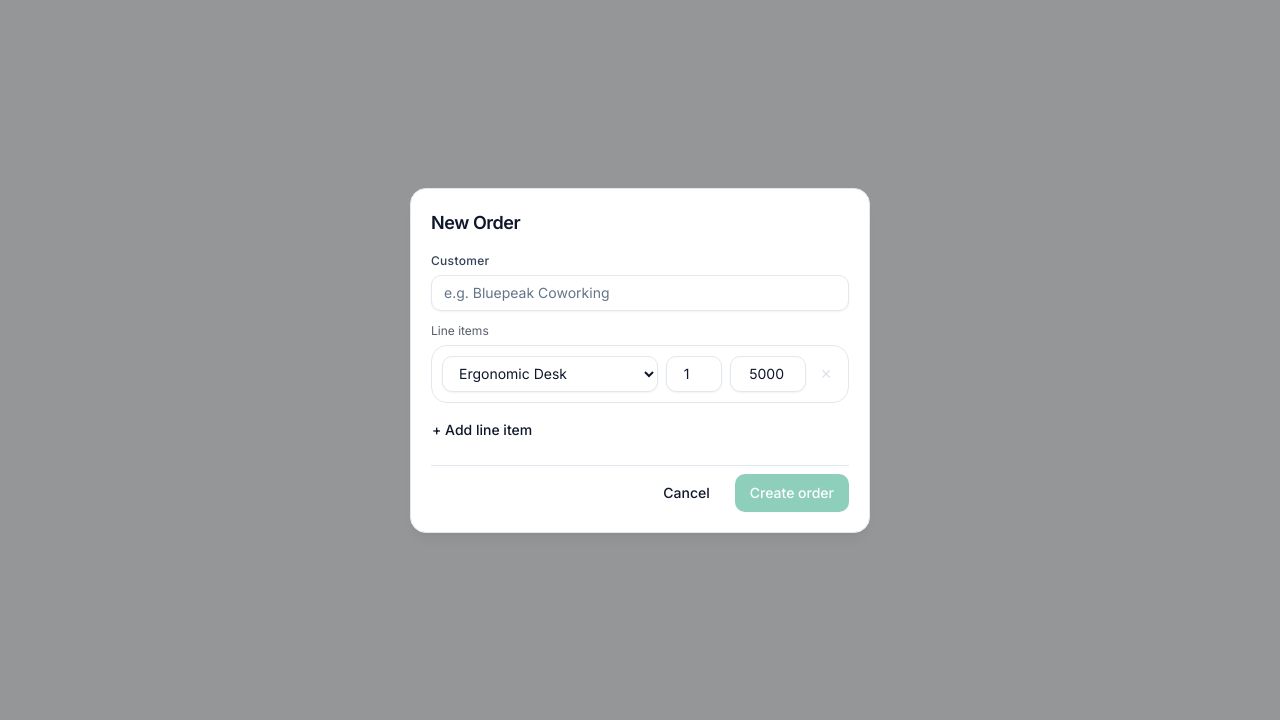
Test case: NewOrderDialog Component › TC-3.2: disables Create Order button when customer is empty
Expected: the button "Create order" is disabled, [735,474,849,512]
# Fill customer name
Type "Wayne Enterprises" into the field with placeholder "e.g. Bluepeak Coworking" at (640, 292), box [431,274,849,310]
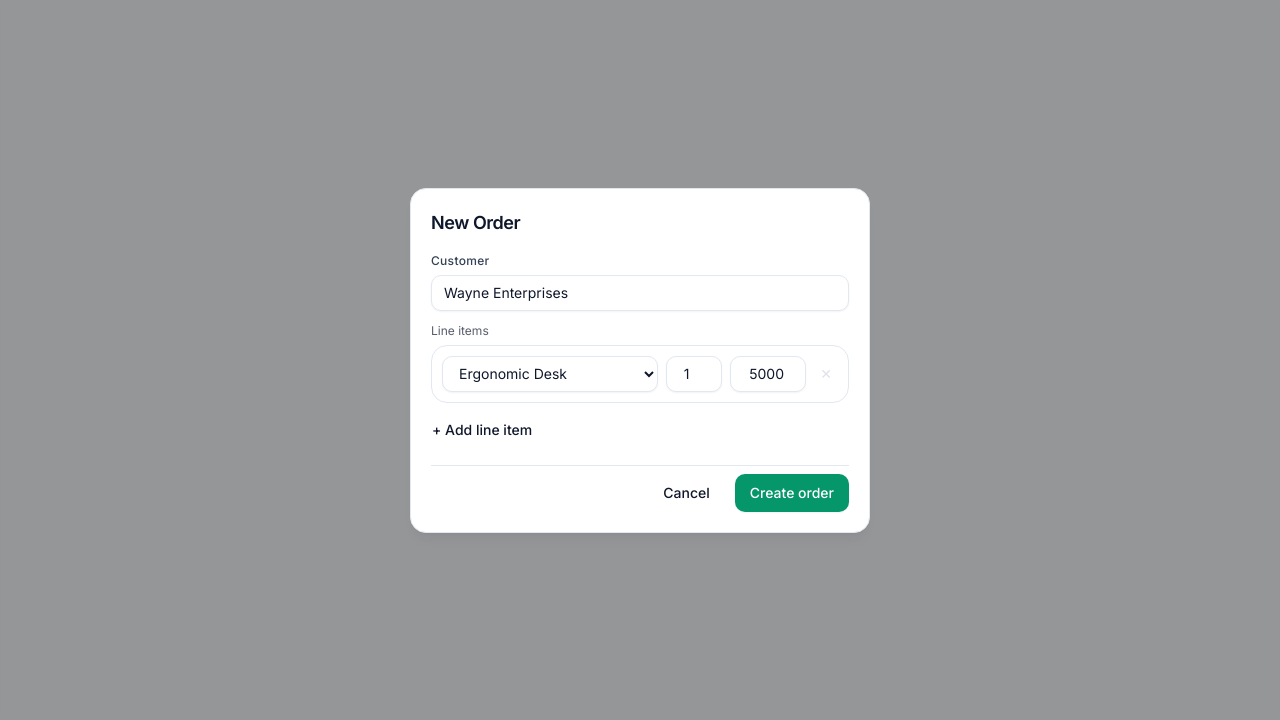
Expected: the button "Create order" is enabled, [735,474,849,512]
